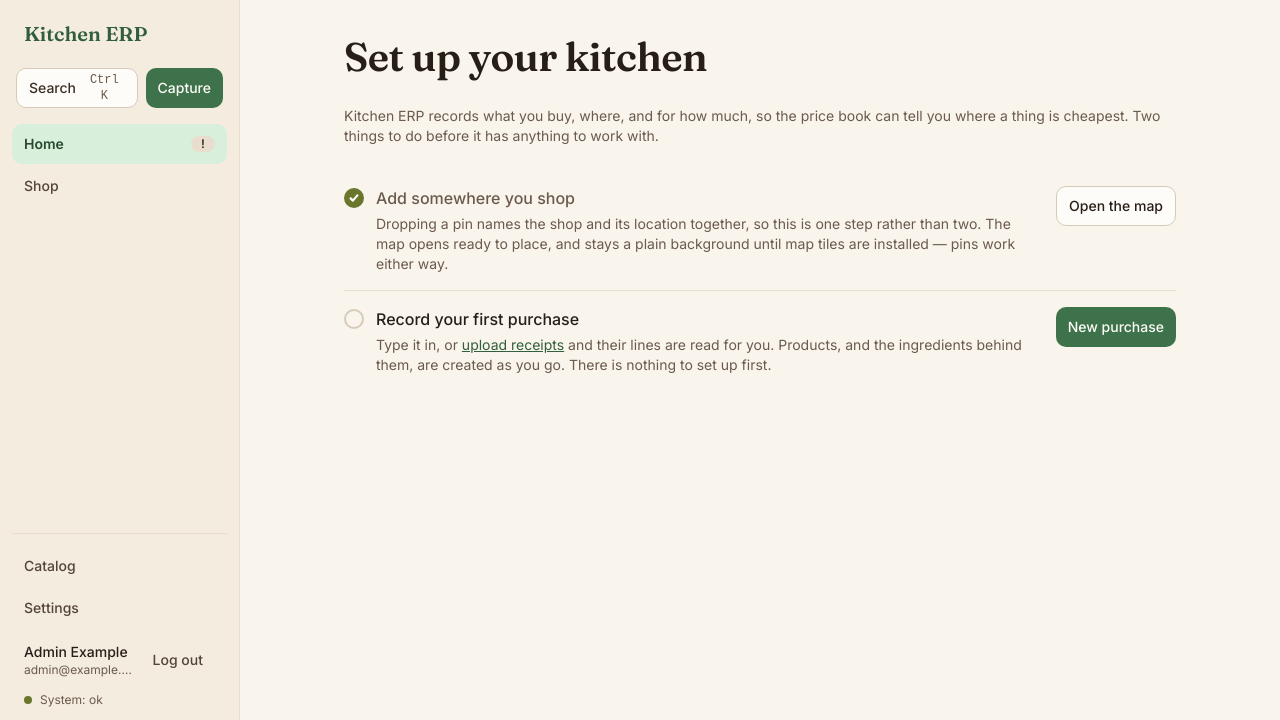
Test: first-purchase acknowledgement › rides the checklist's step-two link into the entry form
Click the link "New purchase" at [1116, 327], box [1056, 307, 1176, 347]
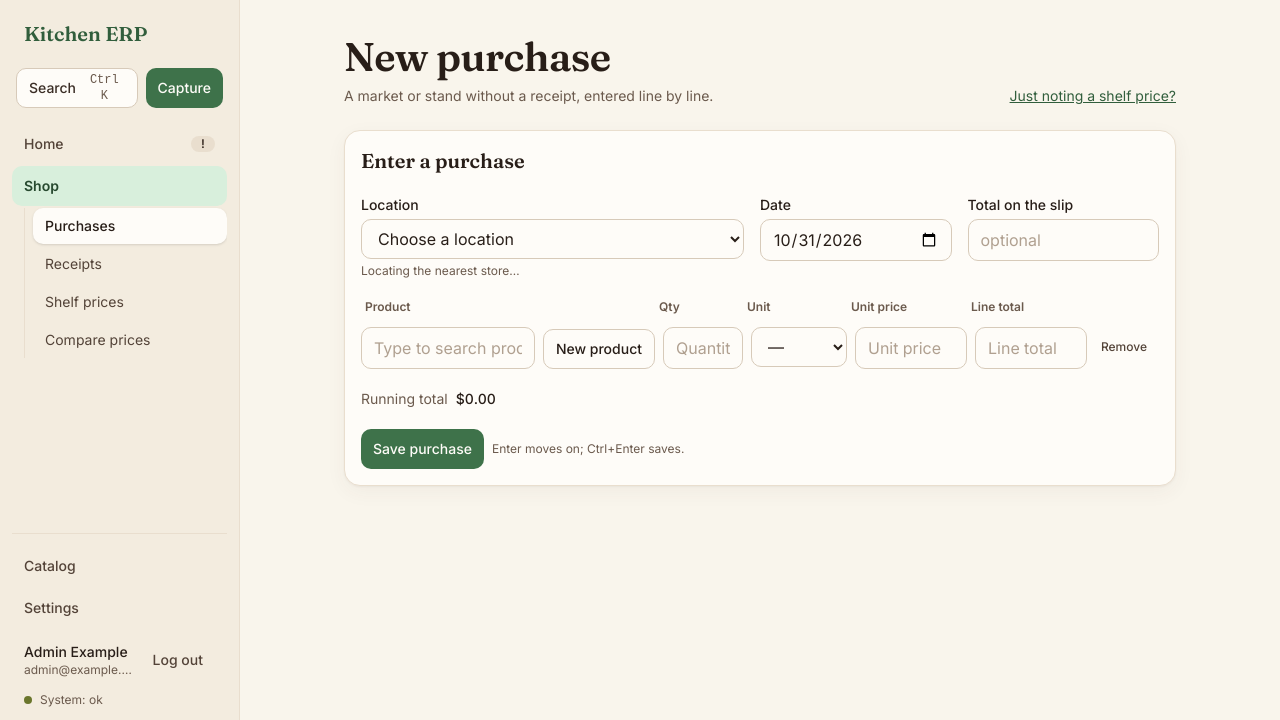
expect the button "Save purchase" is shown: met, box [361, 429, 484, 469]
